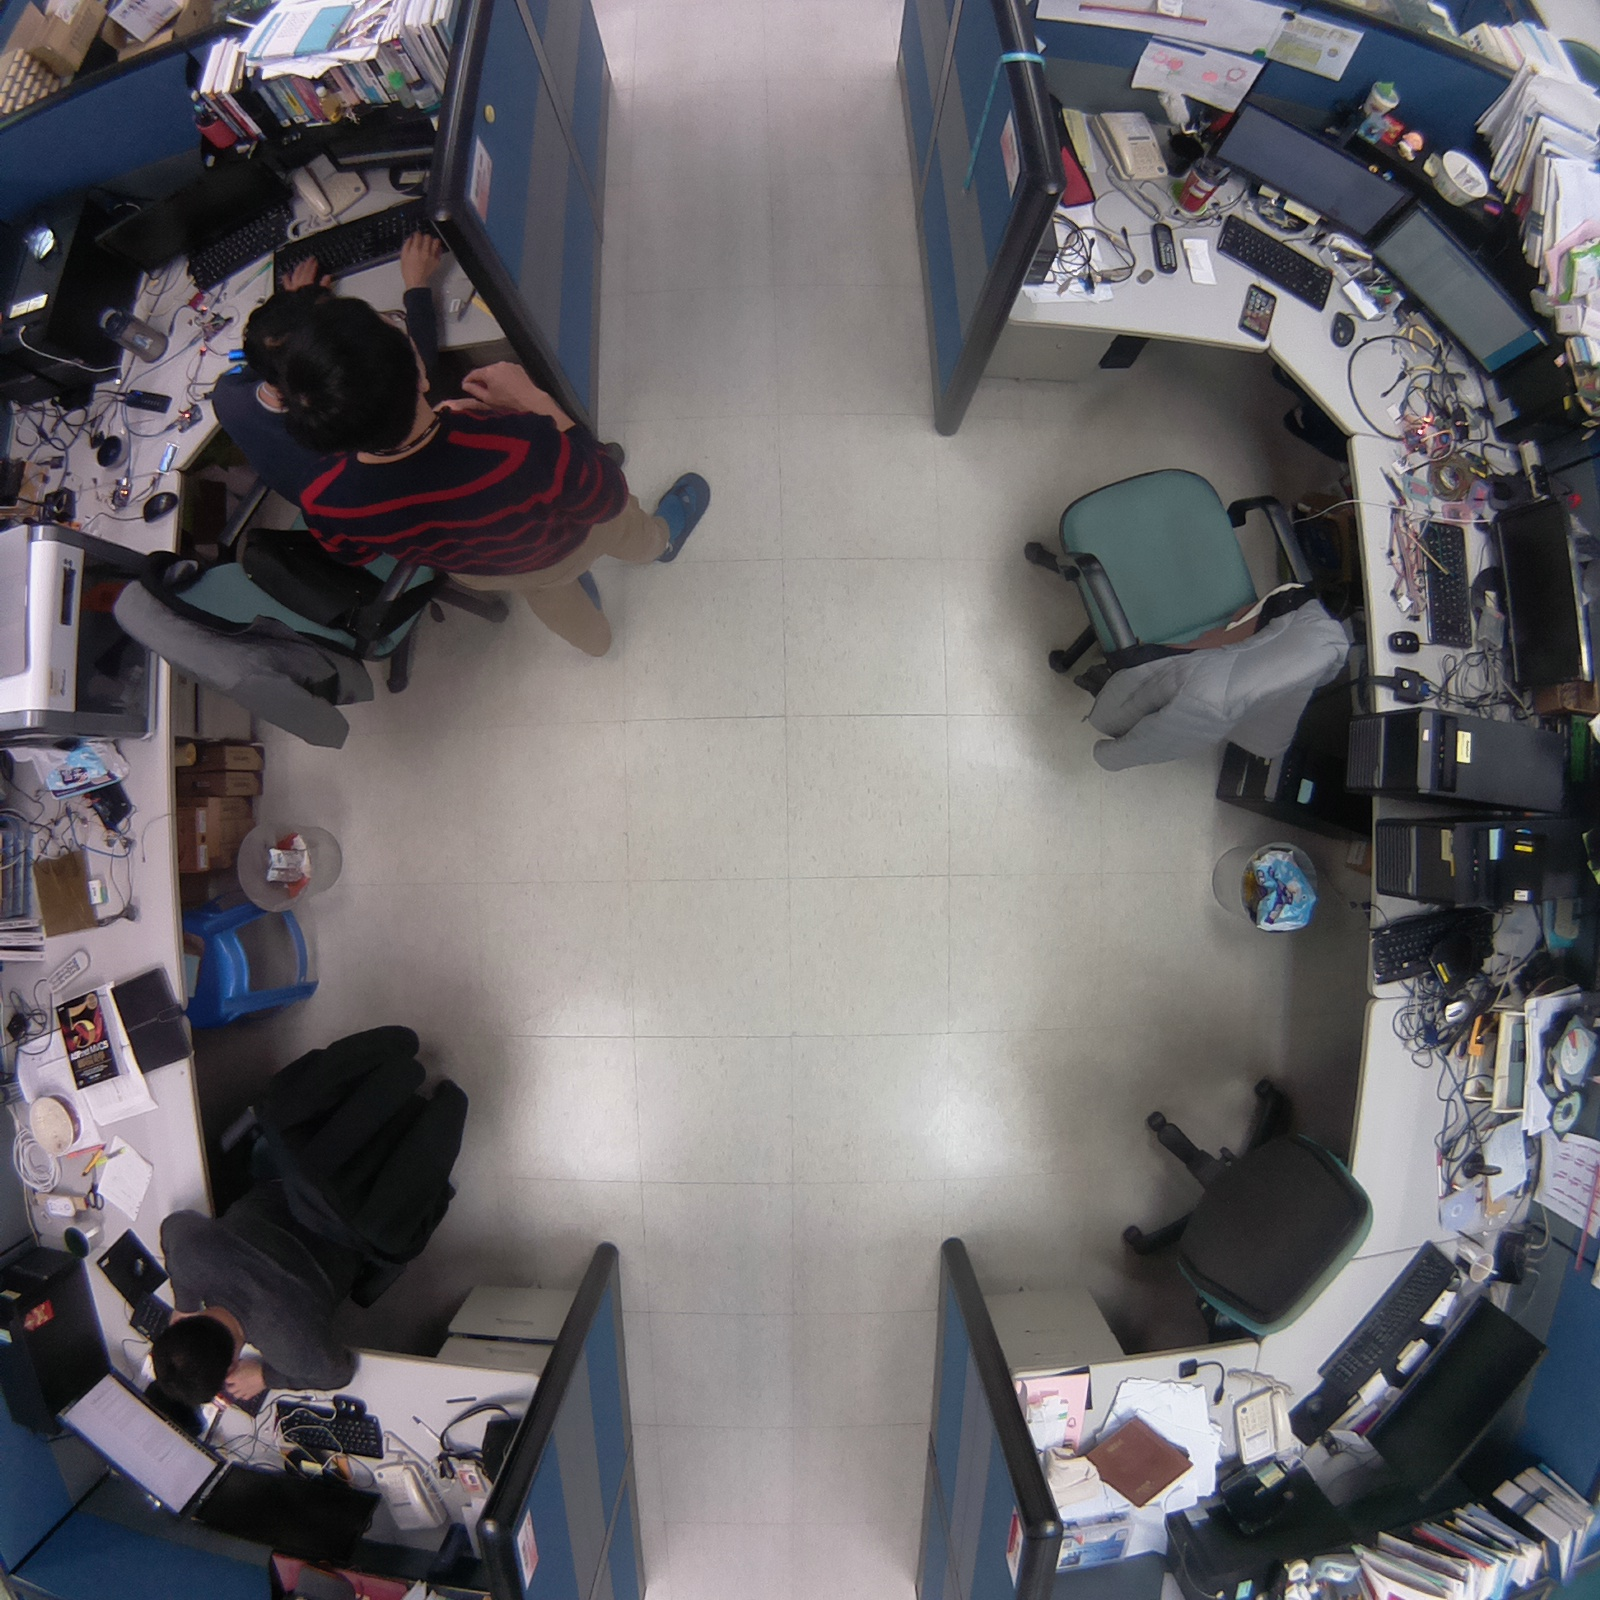chair: (1012, 424, 1365, 778), (1096, 1047, 1394, 1365)
head: (272, 291, 427, 465), (149, 1306, 242, 1419)
sitting: (145, 1014, 478, 1406)
standing: (253, 291, 728, 678)
